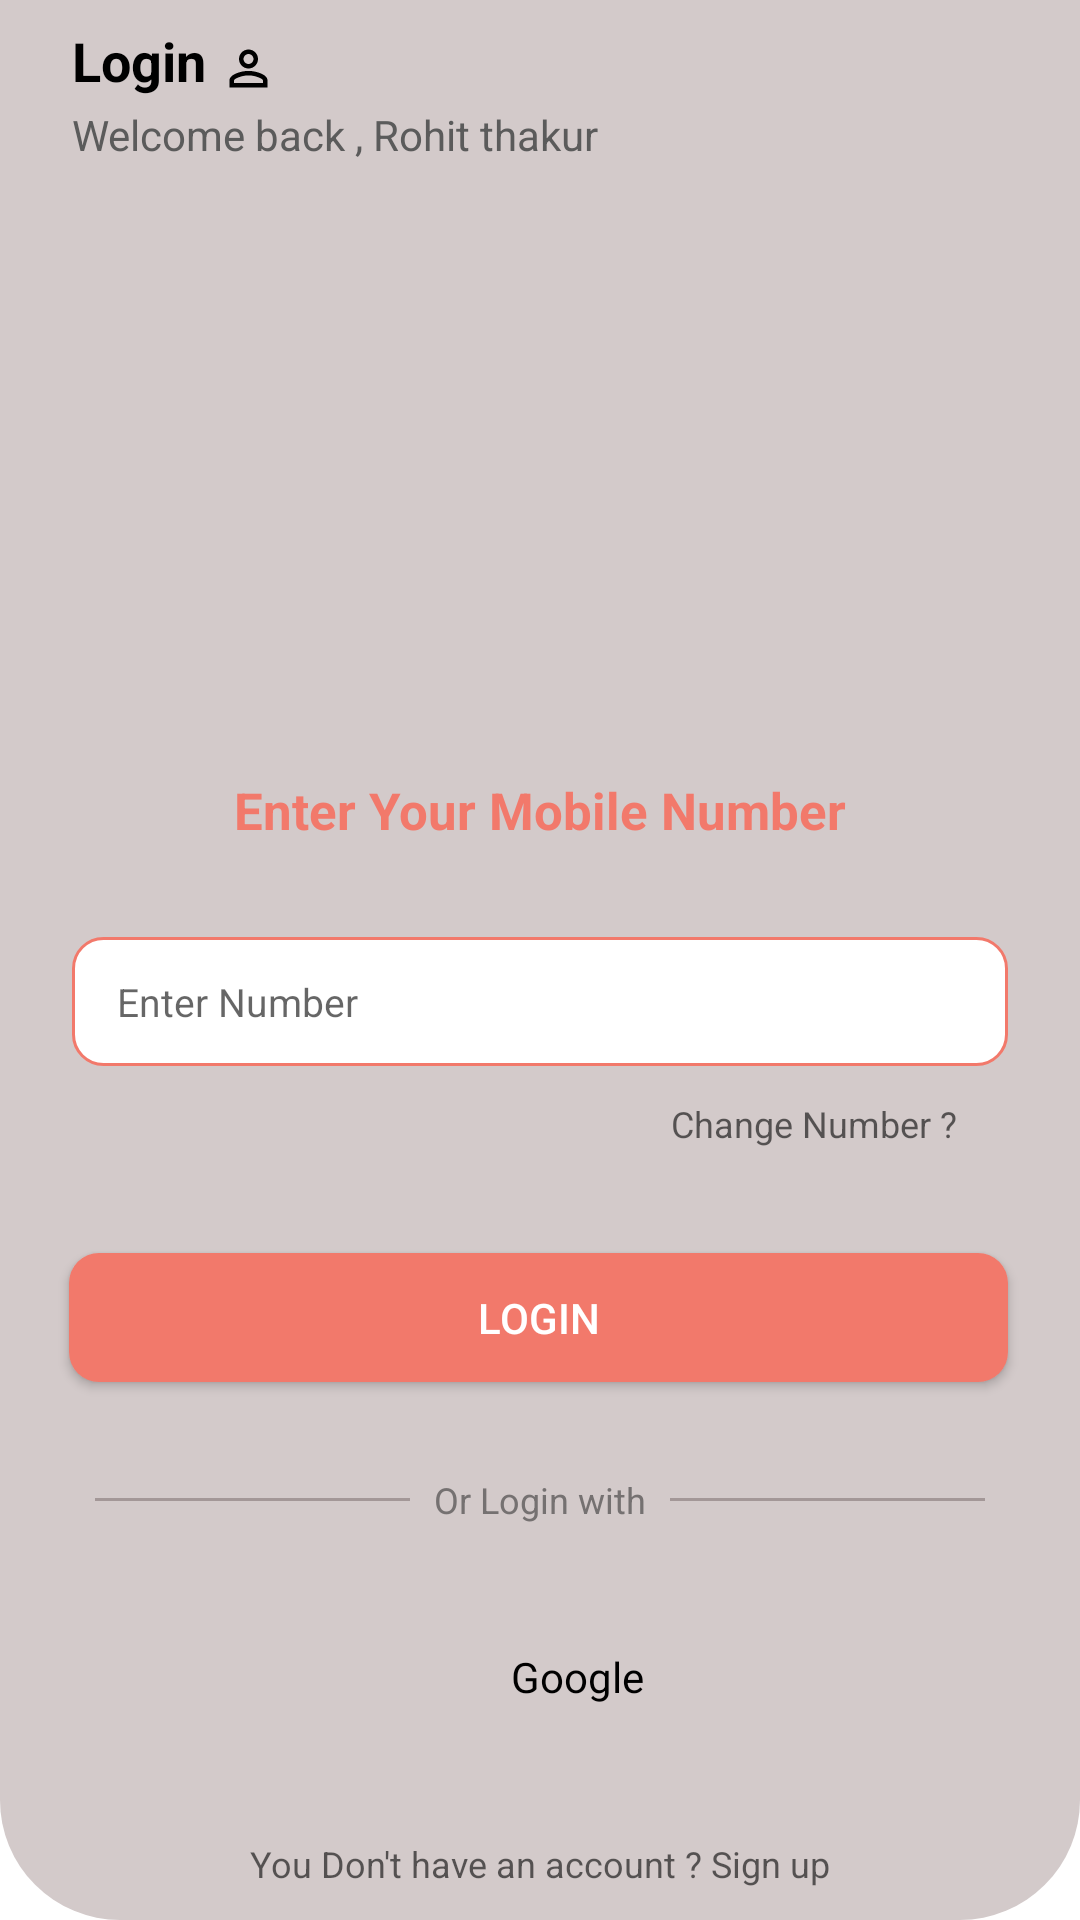

Icons on this 1080*1920 Android screen, each with the point to tap as point (x, y):
person: point (248, 68)
